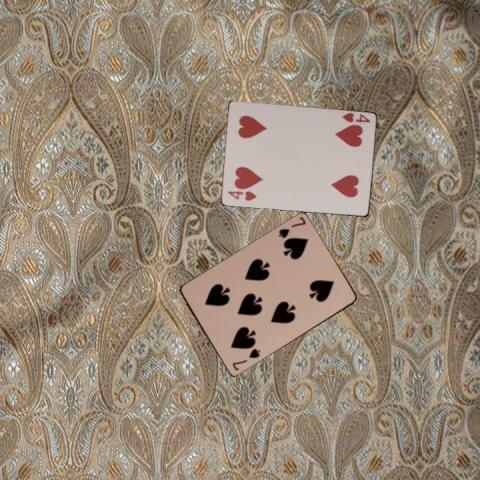4h: (339, 110, 371, 124), (225, 189, 258, 202)
7s: (230, 346, 262, 372), (276, 214, 308, 240)
